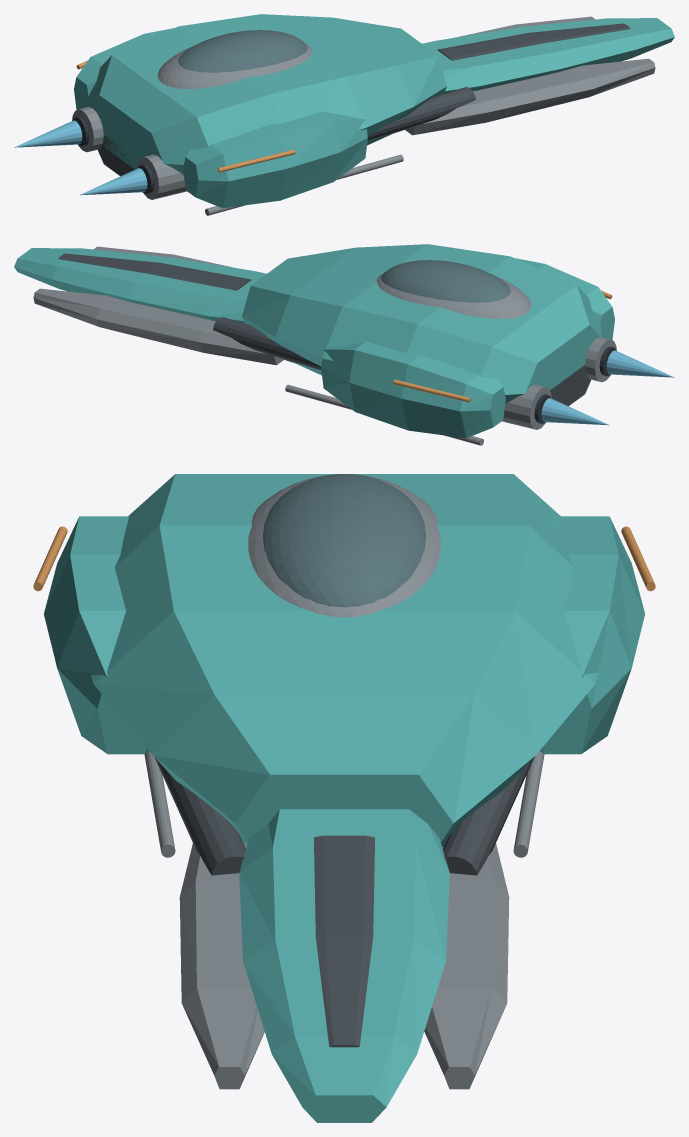
Rendered from scud_teal_flight.glb.
3 renders of one model, top to bottom at view 1: azimuth 30°, elevation 25°; view 2: azimuth 150°, elevation 25°; view 3: azimuth 270°, elevation 25°, orthographic. The views are drawn at different scales.
Parts seen in each view (by area): view 1: rear_core_0, rear_side_body_5, forward_body_2, forward_side_fin_7, canopy_glass_4, front_inset_15, canopy_rim_3, rear_engine_housing_9, engine_flame_12, connecting_arm_8, lower_keel_1, underside_ski_13 (+2 smaller); view 2: rear_core_0, rear_side_body_5, forward_body_2, forward_side_fin_7, canopy_glass_4, front_inset_15, canopy_rim_3, rear_engine_housing_9, engine_flame_12, connecting_arm_8, lower_keel_1, underside_ski_13 (+2 smaller); view 3: rear_core_0, forward_body_2, rear_side_body_5, forward_side_fin_7, canopy_glass_4, front_inset_15, connecting_arm_8, canopy_rim_3, underside_ski_13, side_light_6.
Boxes of the visible parts, bbox=[...] form: rear_core_0: bbox=[87, 14, 446, 175]; rear_side_body_5: bbox=[74, 28, 367, 208]; forward_body_2: bbox=[422, 18, 674, 93]; forward_side_fin_7: bbox=[404, 16, 655, 135]; canopy_glass_4: bbox=[178, 30, 307, 72]; front_inset_15: bbox=[437, 23, 630, 60]; canopy_rim_3: bbox=[157, 42, 312, 88]; rear_engine_housing_9: bbox=[72, 107, 186, 199]; engine_flame_12: bbox=[14, 120, 147, 195]; connecting_arm_8: bbox=[367, 87, 475, 139]; lower_keel_1: bbox=[98, 129, 404, 192]; underside_ski_13: bbox=[205, 154, 403, 215]; rear_core_0: bbox=[242, 244, 601, 404]; rear_side_body_5: bbox=[321, 258, 614, 438]; forward_body_2: bbox=[14, 248, 266, 323]; forward_side_fin_7: bbox=[33, 246, 284, 365]; canopy_glass_4: bbox=[381, 260, 510, 302]; front_inset_15: bbox=[58, 253, 251, 290]; canopy_rim_3: bbox=[376, 272, 531, 318]; rear_engine_housing_9: bbox=[502, 337, 616, 429]; engine_flame_12: bbox=[541, 350, 674, 425]; connecting_arm_8: bbox=[213, 317, 321, 369]; lower_keel_1: bbox=[284, 359, 590, 422]; underside_ski_13: bbox=[285, 384, 483, 445]; rear_core_0: bbox=[91, 474, 598, 847]; forward_body_2: bbox=[239, 809, 449, 1122]; rear_side_body_5: bbox=[44, 516, 644, 754]; forward_side_fin_7: bbox=[179, 843, 509, 1089]; canopy_glass_4: bbox=[263, 474, 425, 607]; front_inset_15: bbox=[314, 835, 374, 1047]; connecting_arm_8: bbox=[154, 757, 534, 875]; canopy_rim_3: bbox=[248, 474, 440, 617]; underside_ski_13: bbox=[144, 751, 544, 857]; side_light_6: bbox=[33, 526, 655, 591].
Size of the model in its own units: 7.45 by 1.37 by 3.25.
